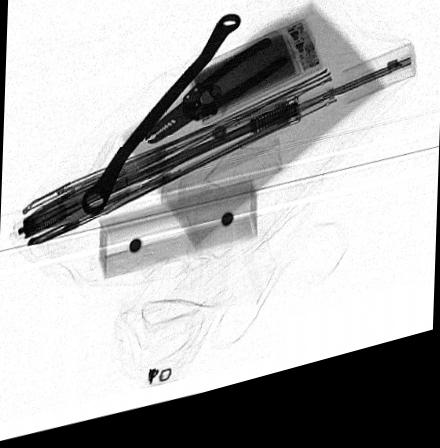Pliers: (141, 51, 289, 154)
Powerbank: (189, 36, 323, 137)
Wrench: (80, 26, 242, 221)
